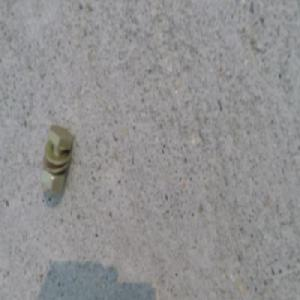BoltNutSet: (46, 120, 79, 192)
